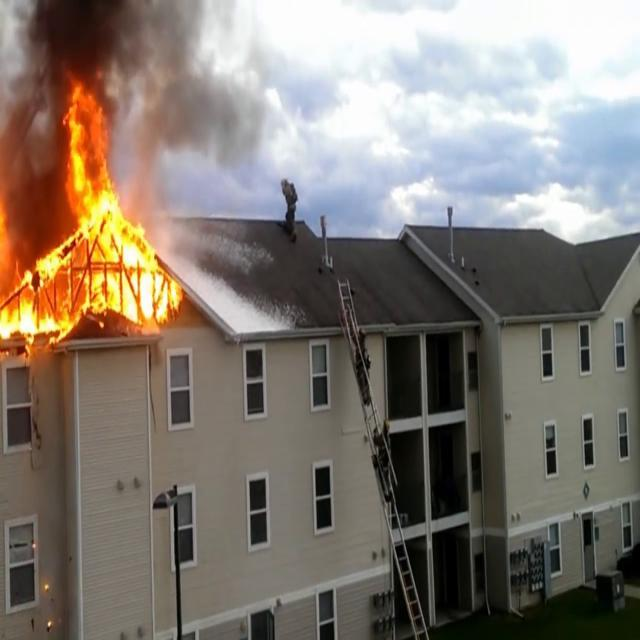Fire: (0, 82, 182, 346)
